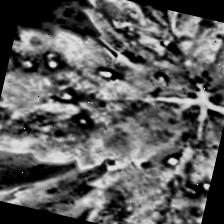Leaf Spot: (0, 20, 206, 195), (32, 0, 224, 111), (71, 87, 224, 224)
